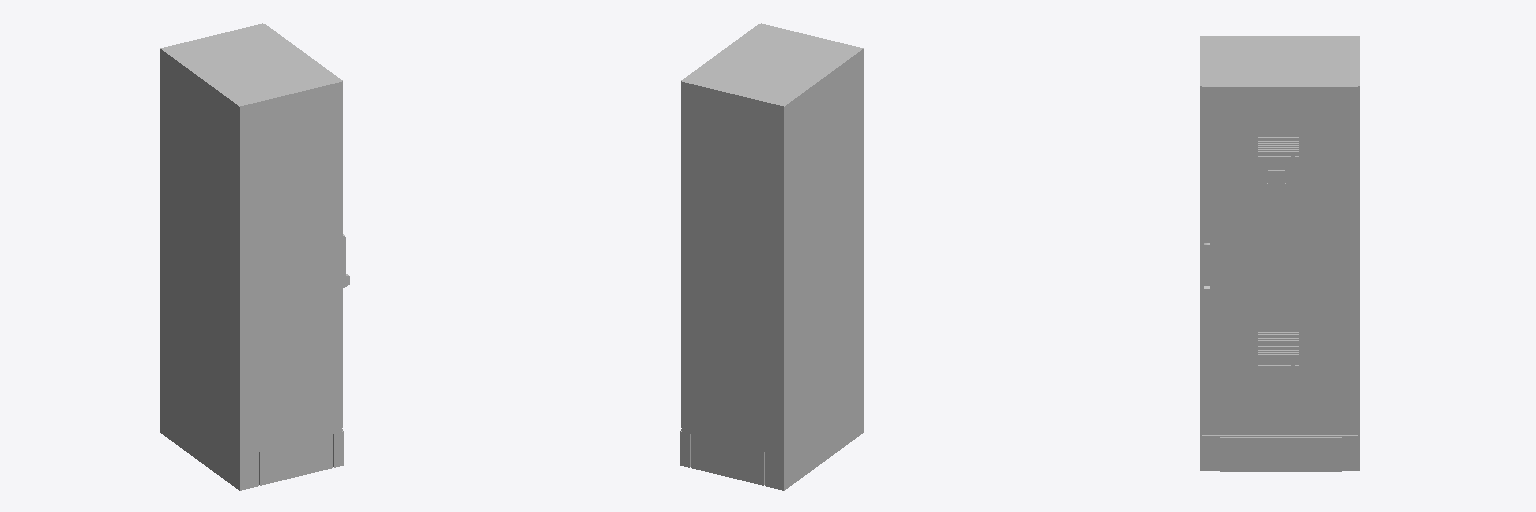
Rendered from set6aobj.obj.
3 renders of one model, left to right at view 1: azimuth 30°, elevation 25°; view 2: azimuth 150°, elevation 25°; view 3: azimuth 270°, elevation 25°, orthographic.
Visible parts, largest first — view 1: set6_Model; view 2: set6_Model; view 3: set6_Model.
Boxes of the visible parts, x1,y1,x2,y2 form: set6_Model: [160, 23, 349, 490]; set6_Model: [680, 23, 863, 490]; set6_Model: [1200, 36, 1359, 471].
Bounding box in the file's own units: 0.611 × 2 × 0.7504.